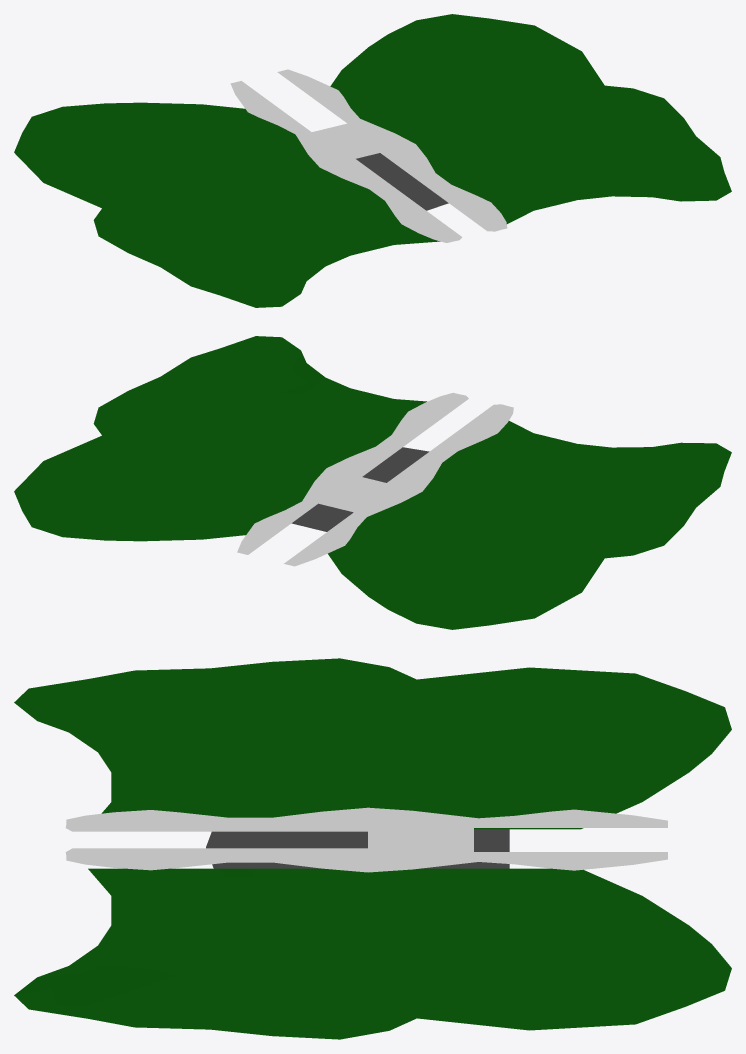
The model's file is Butterfly.fbx.
3 renders of one model, top to bottom at view 1: azimuth 30°, elevation 25°; view 2: azimuth 150°, elevation 25°; view 3: azimuth 270°, elevation 25°, orthographic. The views are drawn at different scales.
Visible parts, largest first — view 1: pCube15, pCube14, pPlane5, pCylinder23; view 2: pCube15, pCube14, pPlane5, pCylinder23; view 3: pCube14, pCube15, pPlane5, pCylinder23.
Part boxes in pixels (x1,y1,x2,y2): pCube15: (14, 102, 440, 307); pCube14: (330, 14, 731, 223); pPlane5: (230, 69, 507, 242); pCylinder23: (356, 153, 448, 210); pCube15: (328, 421, 731, 629); pCube14: (14, 336, 426, 541); pPlane5: (237, 392, 513, 566); pCylinder23: (291, 447, 429, 531); pCube14: (14, 868, 731, 1039); pCube15: (14, 658, 731, 829); pPlane5: (65, 807, 667, 872); pCylinder23: (206, 829, 509, 868).
Size of the model in its own units: 759 by 17.57 by 604.
